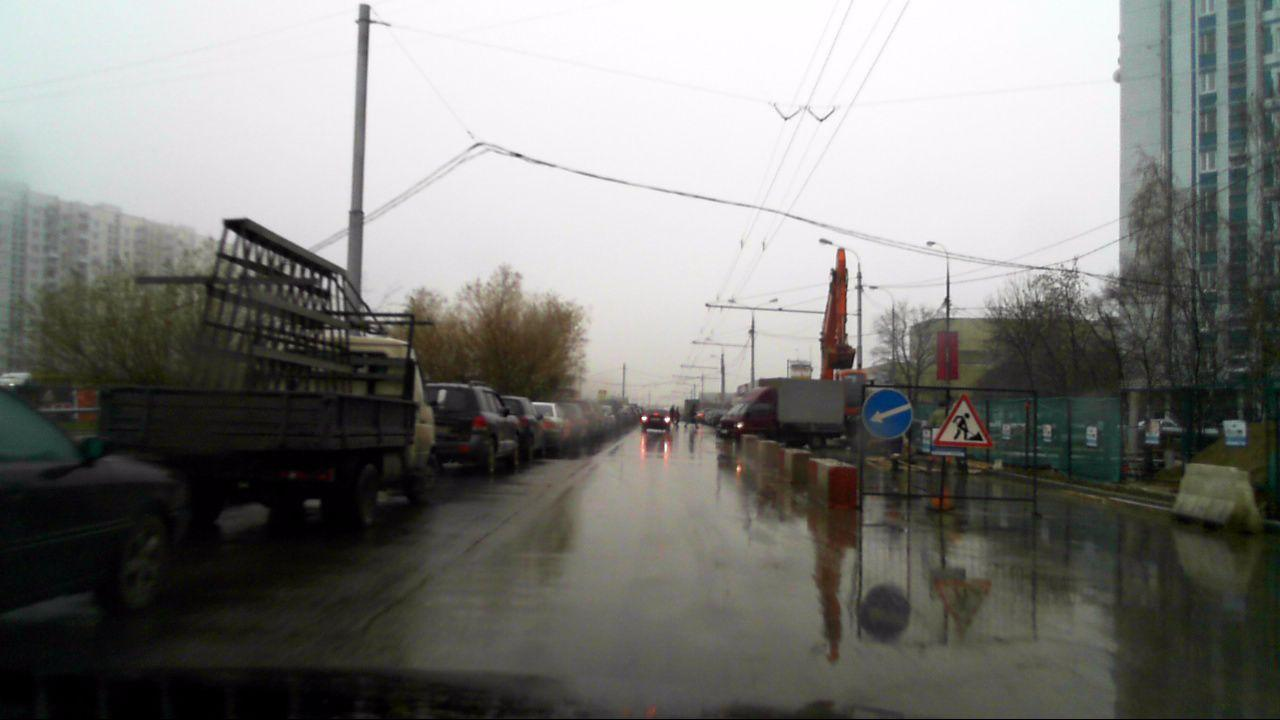1_25: (934, 394, 992, 447)
4_2_2: (862, 385, 913, 438)
